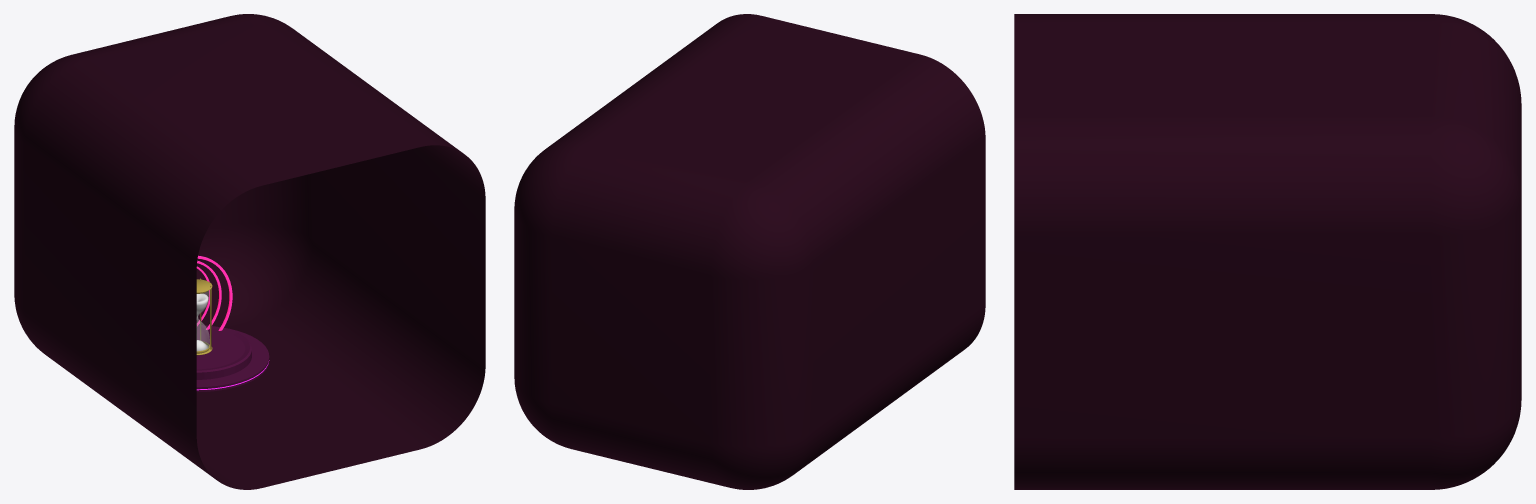
Rendered from StageandGlass.glb.
3 views of the same model, side by side, from view 1: azimuth 30°, elevation 25°; view 2: azimuth 150°, elevation 25°; view 3: azimuth 270°, elevation 25° (orthographic). The views are drawn at different scales.
Parts seen in each view (by area): view 1: Cube, Cylinder.004, Cylinder.002, Hourglass With Sand; view 2: Cube; view 3: Cube.
Part boxes in pixels (x1,y1,x2,y2): Cube: [14, 14, 485, 489]; Cylinder.004: [196, 325, 251, 379]; Cylinder.002: [196, 326, 269, 389]; Hourglass With Sand: [196, 278, 212, 355]; Cube: [514, 14, 985, 489]; Cube: [1014, 14, 1521, 489].
Bounding box in the file's own units: 7.74 × 7.87 × 9.73.
